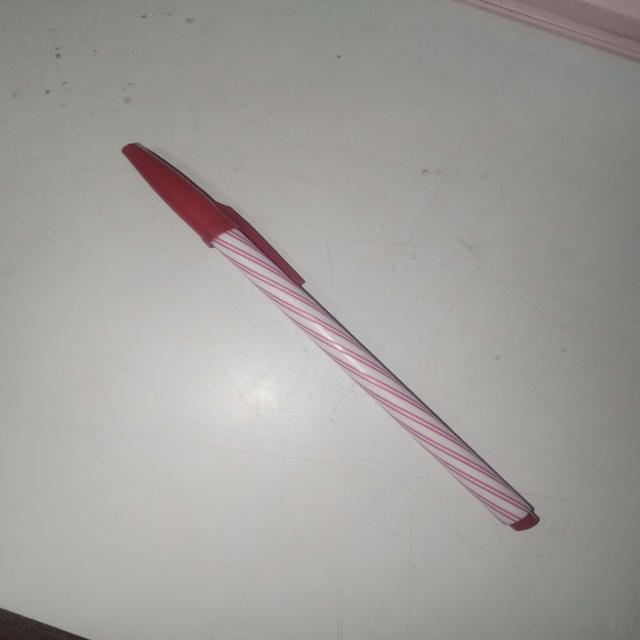pen_pencil: (109, 122, 555, 555)
